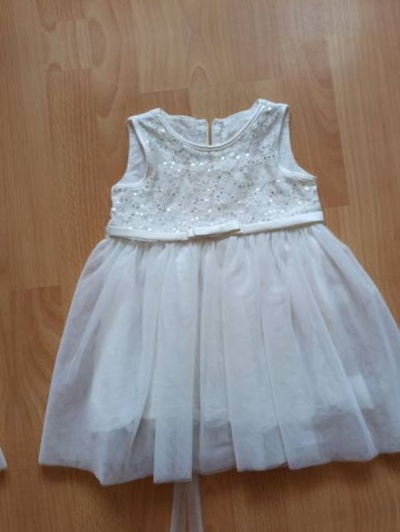Dress: (0, 43, 400, 507), (0, 0, 395, 18), (0, 92, 8, 532)
